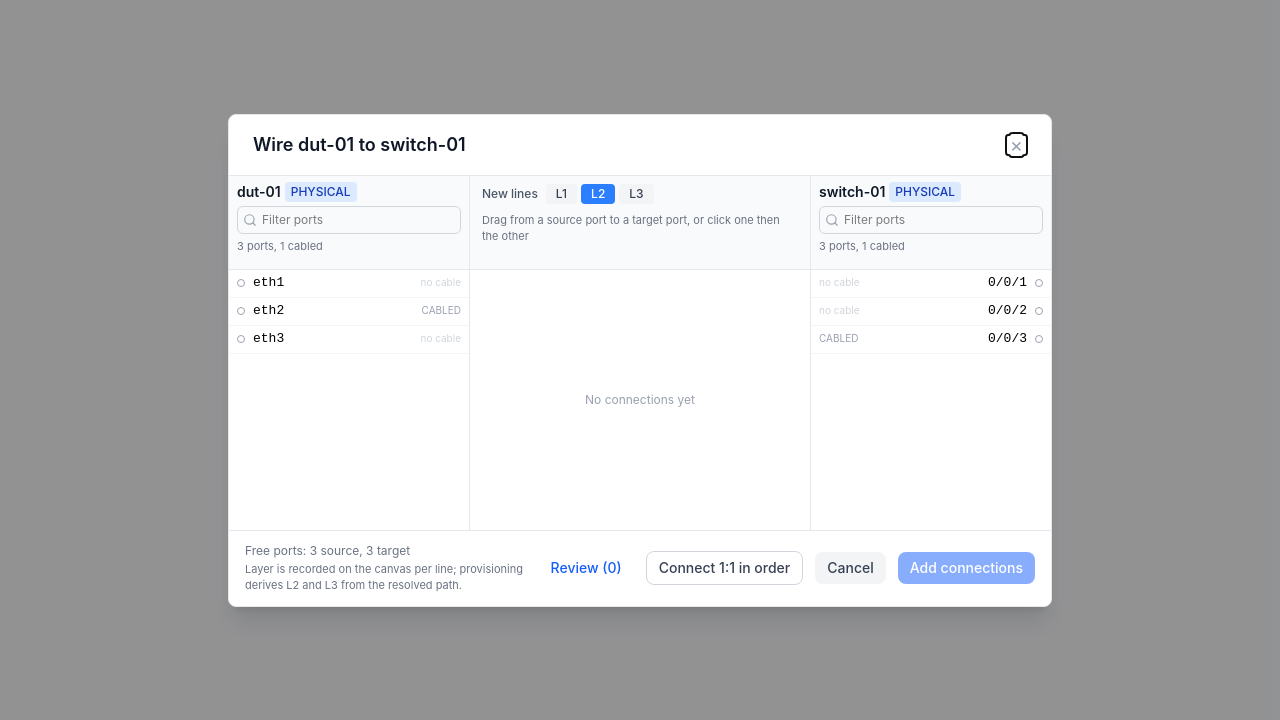
Test: WiringDialog › connect 1:1 in order respects each column's active filter (review item 7)
Step 1. Type "eth1" into the field named "Filter source ports" → (349, 220), box [237,206,461,234]
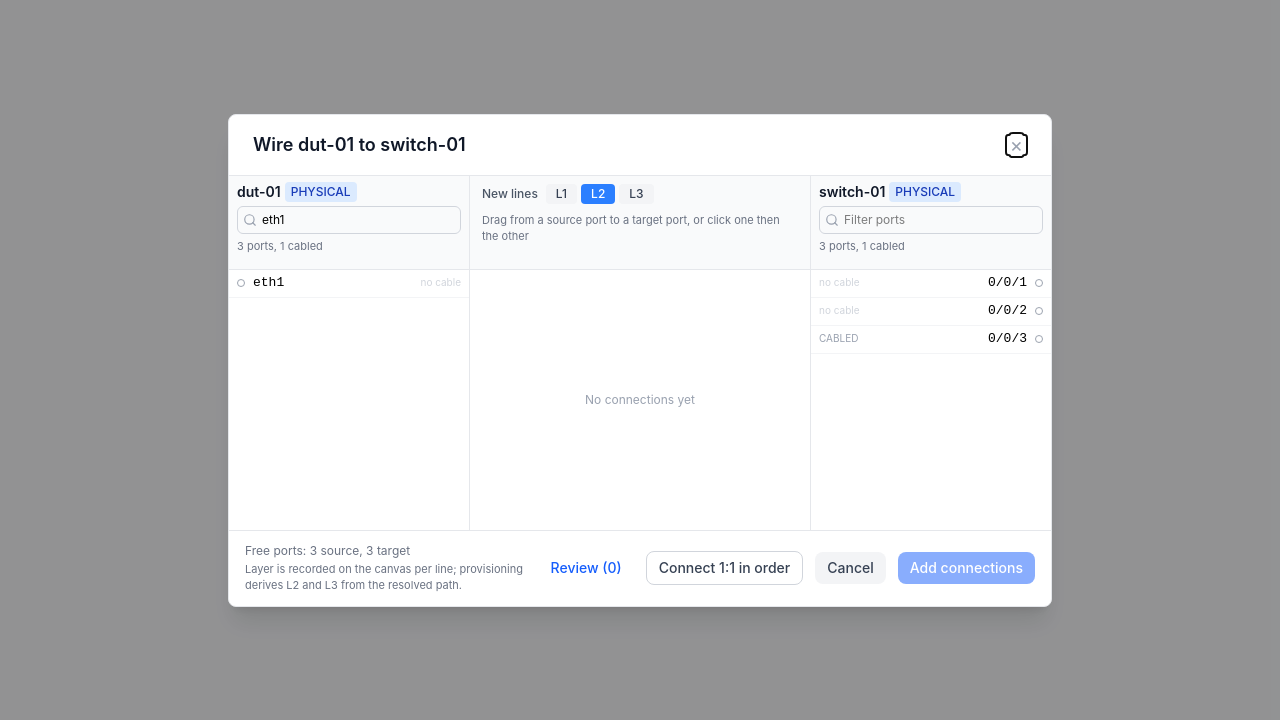
Step 2. Type "0/0/1" into the field named "Filter target ports" → (931, 220), box [819,206,1043,234]
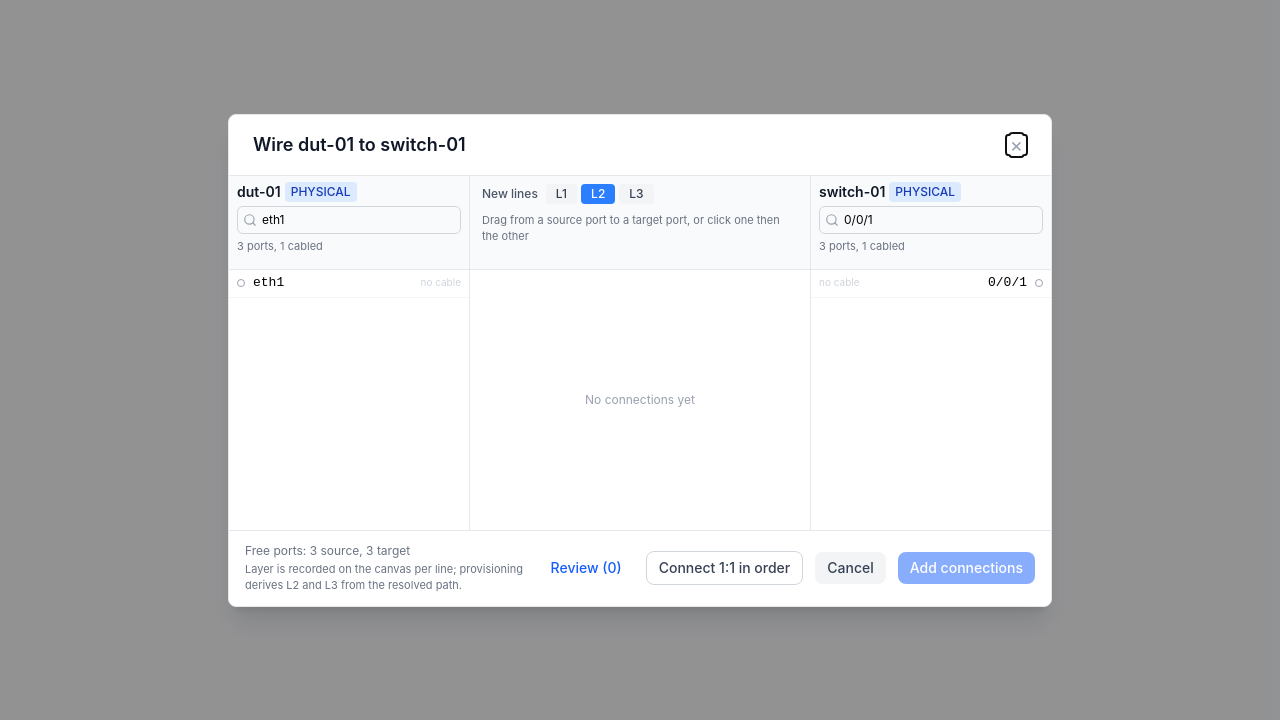
Step 3. Click the button "Connect 1:1 in order" → (724, 568), box [646,551,803,585]
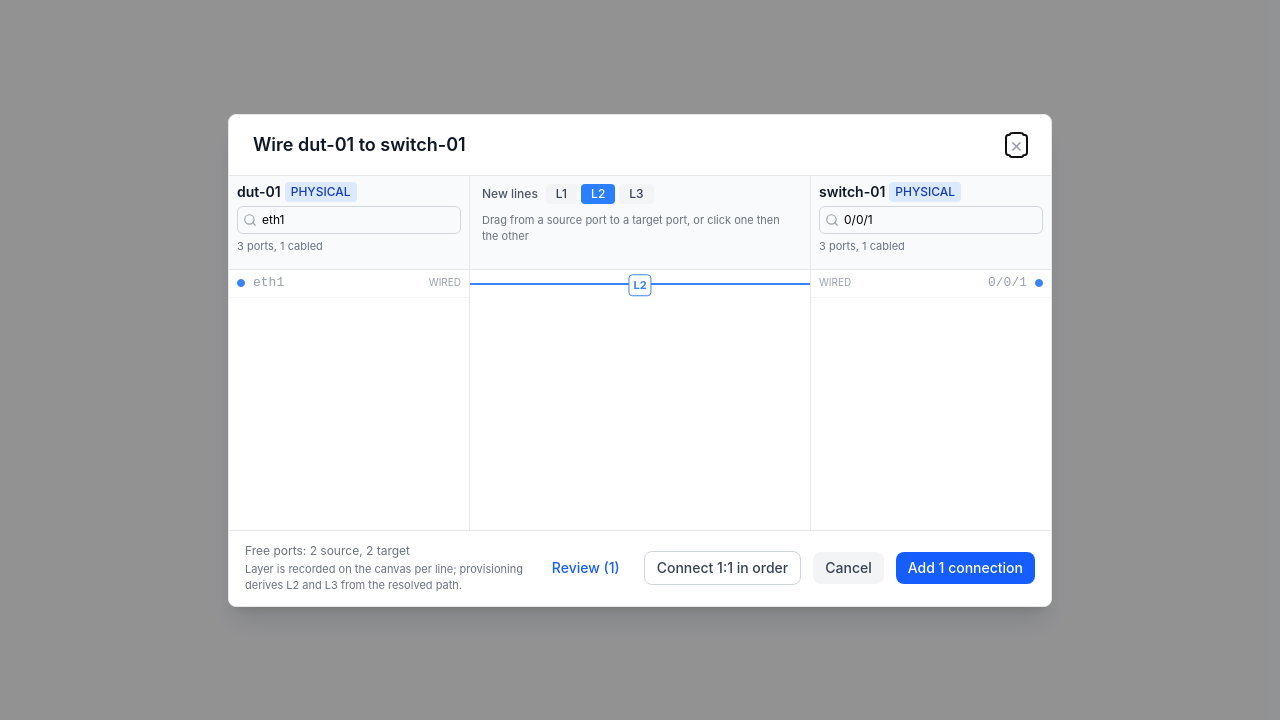
Now the button "Add 1 connection" is enabled, box [896,552,1035,584]
Step 4. Click the button "Review (1)" → (586, 568), box [540,552,632,584]
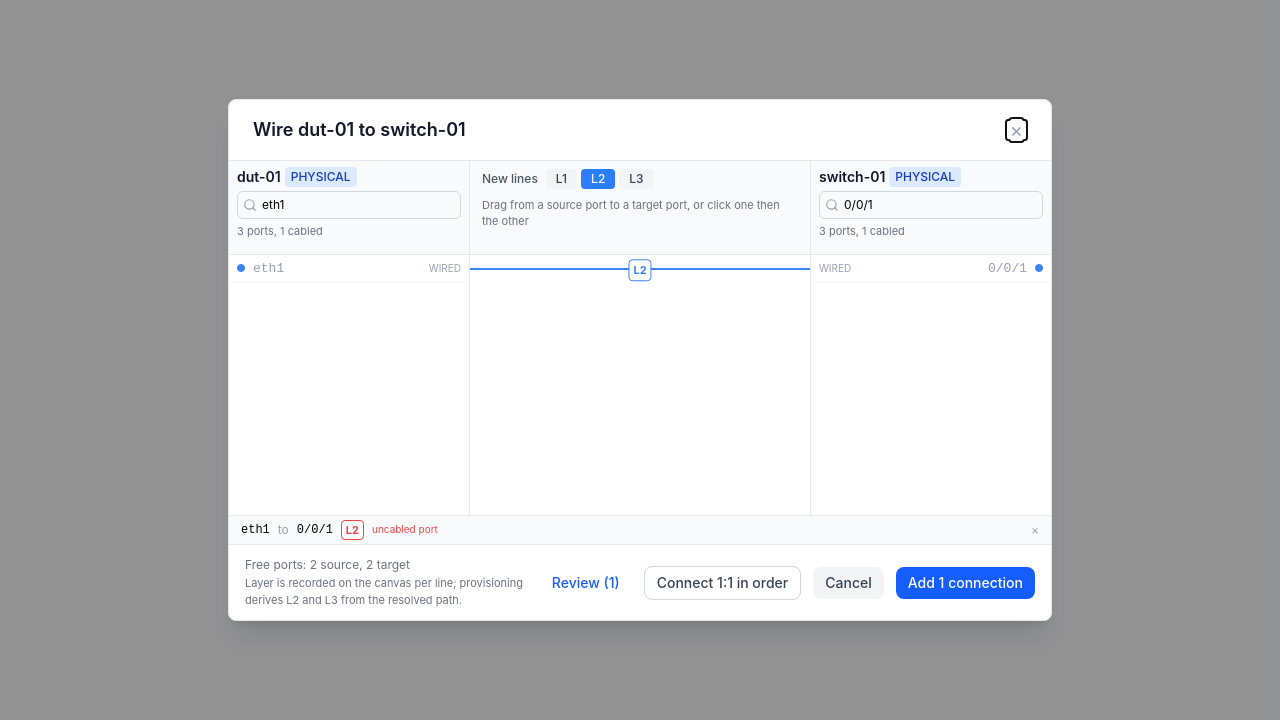
Now the text "eth1" in the row of "uncabled port" is shown, box [241,523,270,537]
Now the text "0/0/1" in the row of "uncabled port" is shown, box [297,523,333,537]
